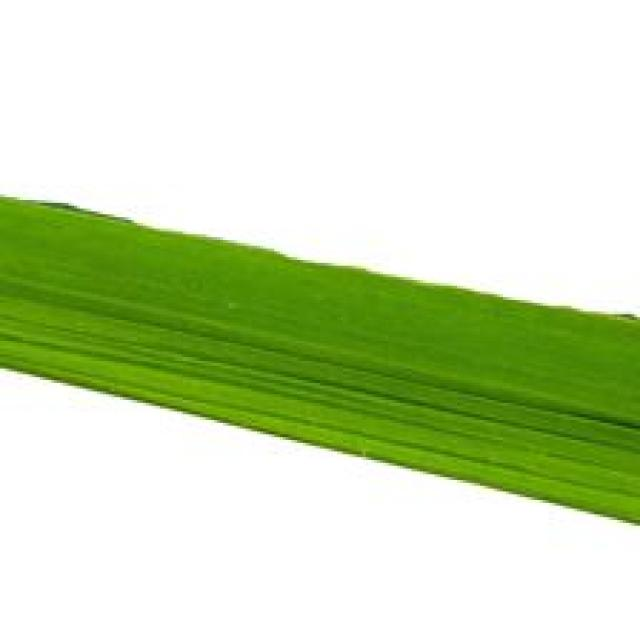Rice___Healthy_Rice_Plant: (0, 194, 637, 521)
